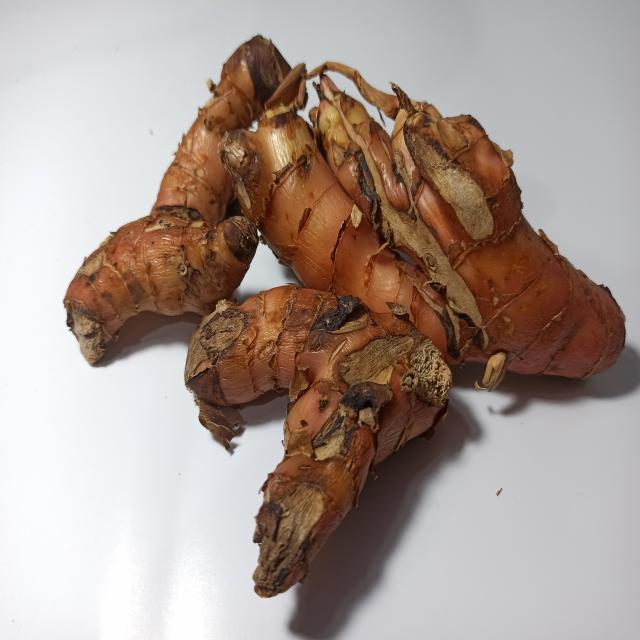ginger: (69, 29, 636, 560)
